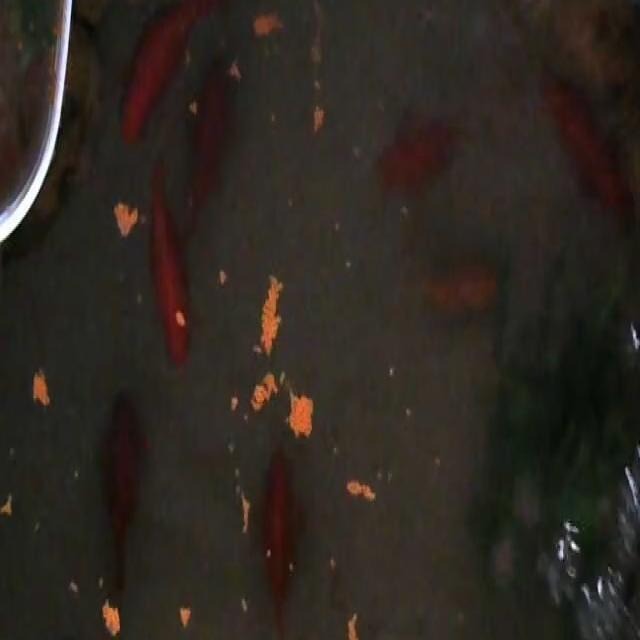fish: (117, 0, 260, 148), (539, 68, 635, 235), (181, 55, 242, 238), (101, 388, 146, 605), (151, 164, 193, 370), (257, 444, 301, 640), (374, 110, 462, 200), (421, 263, 500, 316)
